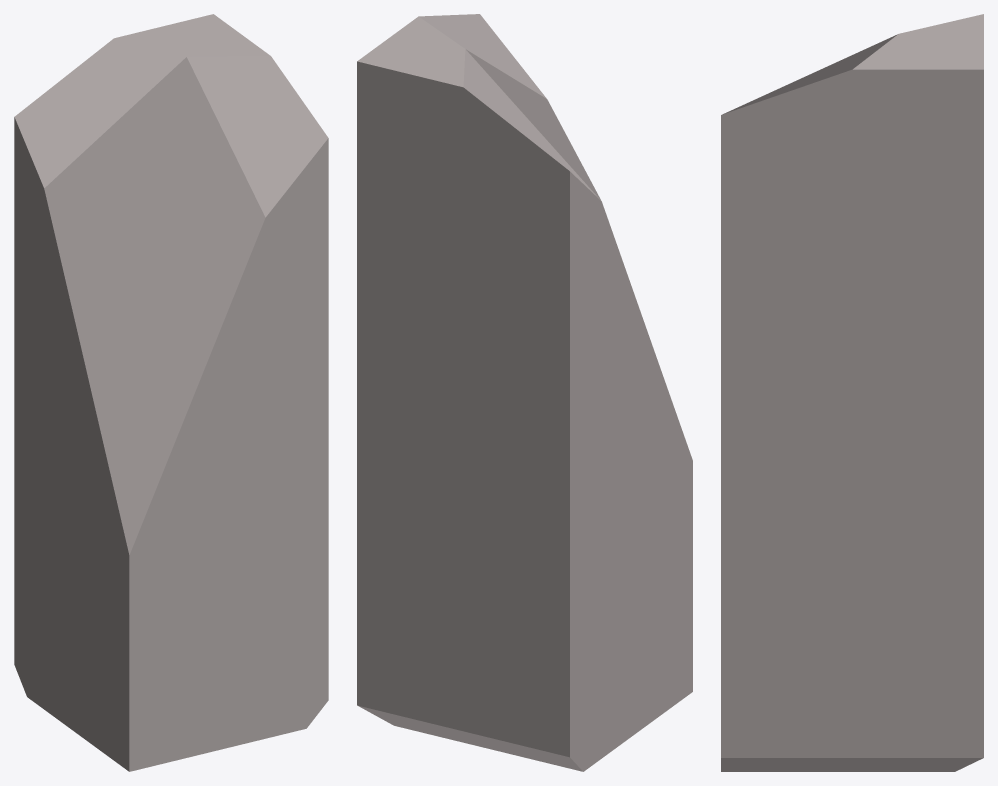
File: StoneHenge_Stone4.fbx
The picture shows the model from 3 angles, left to right: view 1: azimuth 30°, elevation 25°; view 2: azimuth 150°, elevation 25°; view 3: azimuth 270°, elevation 25°; orthographic projection. The views are drawn at different scales.
Visible parts, largest first — view 1: StoneHenge_Stone4; view 2: StoneHenge_Stone4; view 3: StoneHenge_Stone4.
Boxes of the visible parts, x1,y1,x2,y2 form: StoneHenge_Stone4: (14, 14, 328, 771); StoneHenge_Stone4: (357, 14, 692, 771); StoneHenge_Stone4: (721, 14, 983, 771).
Bounding box in the file's own units: 19.69 × 19.69 × 59.06.
